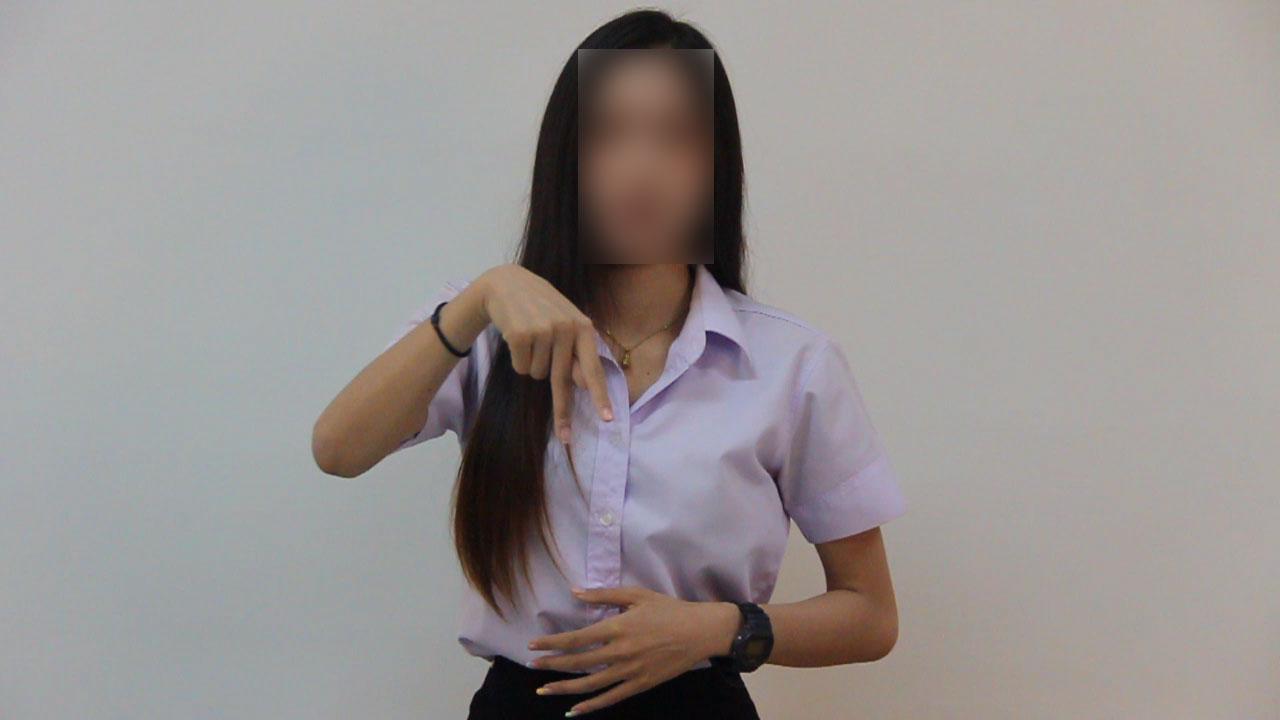por: (472, 242, 621, 449)
